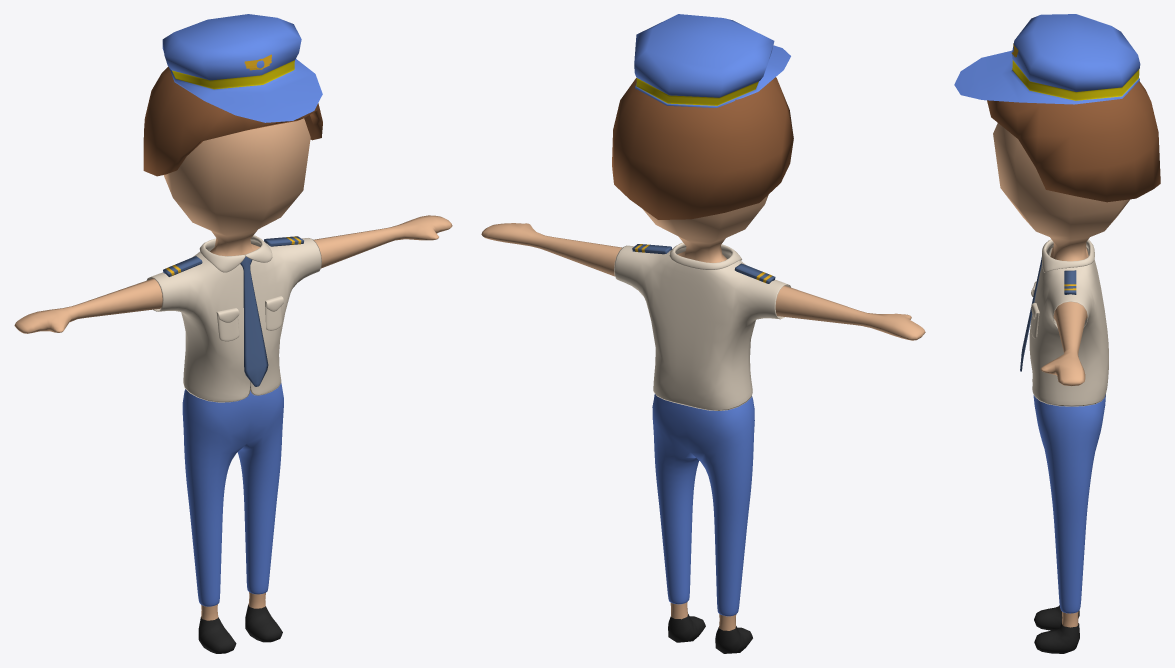
File: body_pilot1.fbx
3 renders of one model, left to right at view 1: azimuth 30°, elevation 25°; view 2: azimuth 150°, elevation 25°; view 3: azimuth 270°, elevation 25°, orthographic.
Parts seen in each view (by area): view 1: body_pilot1, shirt_pilot1, pant_pilot1, hat_pilot1, hair_pilot1, shoe_pilot1; view 2: hair_pilot1, shirt_pilot1, pant_pilot1, hat_pilot1, body_pilot1, shoe_pilot1; view 3: hair_pilot1, hat_pilot1, body_pilot1, shirt_pilot1, pant_pilot1, shoe_pilot1.
Boxes of the visible parts, x1,y1,x2,y2 form: body_pilot1: (14,118,452,620); shirt_pilot1: (146,235,321,402); pant_pilot1: (182,383,283,606); hat_pilot1: (162,14,322,122); hair_pilot1: (143,66,322,176); shoe_pilot1: (198,604,282,653); hair_pilot1: (612,77,793,219); shirt_pilot1: (614,242,790,410); pant_pilot1: (652,394,754,616); hat_pilot1: (634,14,790,107); body_pilot1: (481,195,925,630); shoe_pilot1: (668,614,752,653); hair_pilot1: (987,81,1160,202); hat_pilot1: (954,14,1140,104); body_pilot1: (993,123,1130,627); shirt_pilot1: (1020,239,1108,406); pant_pilot1: (1033,394,1105,613); shoe_pilot1: (1034,605,1079,653).
Bounding box in the file's own units: 156 × 212 × 65.1.
